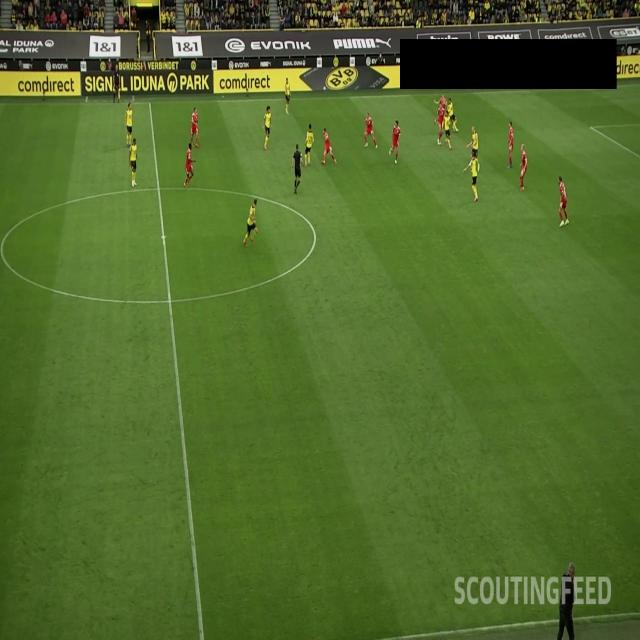player: (466, 150, 480, 202), (244, 199, 258, 247), (557, 176, 569, 227), (321, 128, 337, 164), (434, 93, 448, 133), (389, 119, 401, 165), (363, 112, 378, 148), (128, 137, 138, 187), (183, 143, 194, 187), (518, 144, 528, 192), (262, 106, 272, 150), (304, 123, 314, 167), (434, 103, 444, 145), (190, 106, 200, 148), (447, 98, 459, 132), (466, 126, 478, 160), (443, 110, 452, 150), (125, 102, 133, 147), (507, 121, 514, 168), (285, 77, 291, 115)
referee: (290, 143, 304, 194), (112, 62, 122, 105)
